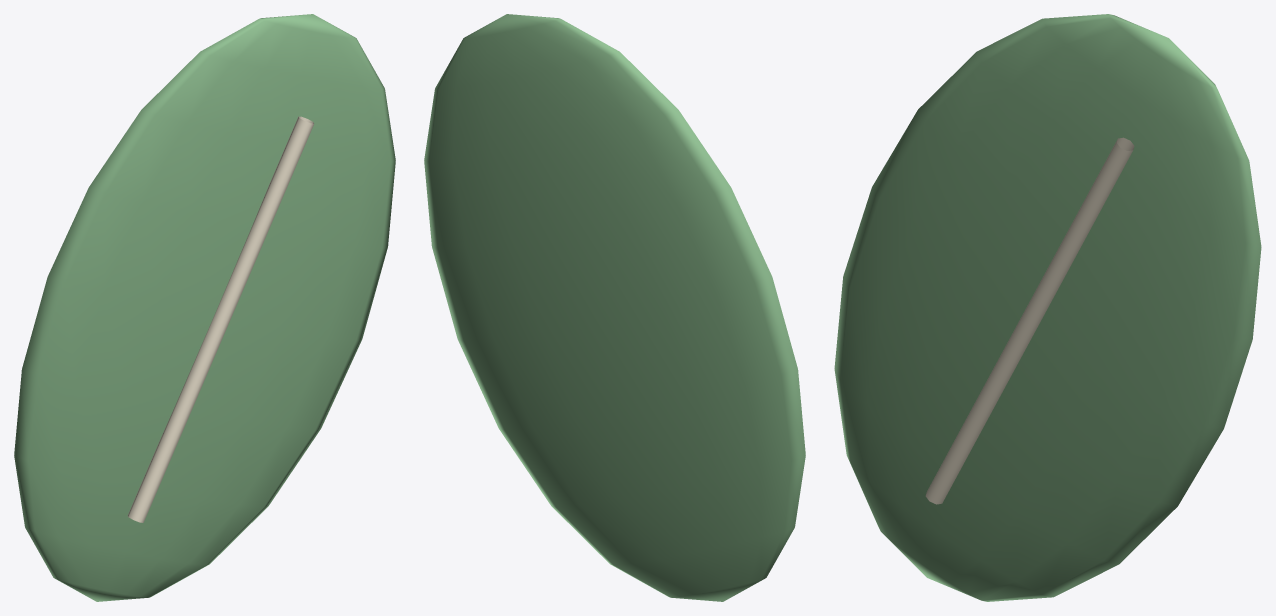
Rendered from word-leaf.glb.
3 views of the same model, side by side, from view 1: azimuth 30°, elevation 25°; view 2: azimuth 150°, elevation 25°; view 3: azimuth 330°, elevation 25° (orthographic). The views are drawn at different scales.
Visible parts, largest first — view 1: leaf, leaf vein; view 2: leaf; view 3: leaf, leaf vein.
Part boxes in pixels (x1,y1,x2,y2): leaf: (14,14,395,601); leaf vein: (127,116,314,522); leaf: (424,14,805,601); leaf: (834,14,1261,601); leaf vein: (925,137,1134,504).
Size of the model in its own units: 0.8937 by 1.24 by 0.143.
